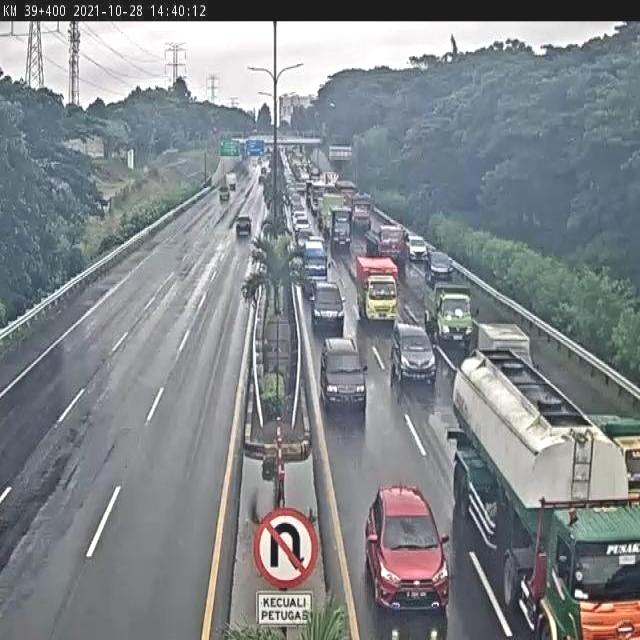Car: (363, 485, 453, 612), (320, 340, 366, 413), (391, 319, 438, 382), (308, 280, 347, 331), (427, 252, 454, 282), (407, 235, 427, 261), (295, 227, 313, 249), (236, 216, 252, 237), (294, 217, 312, 233), (291, 209, 306, 223)
Truck: (445, 348, 640, 640), (583, 408, 640, 498), (424, 282, 480, 346), (356, 254, 401, 321), (476, 324, 537, 369), (363, 221, 408, 266), (330, 205, 352, 251), (321, 192, 344, 230), (350, 198, 373, 232)
